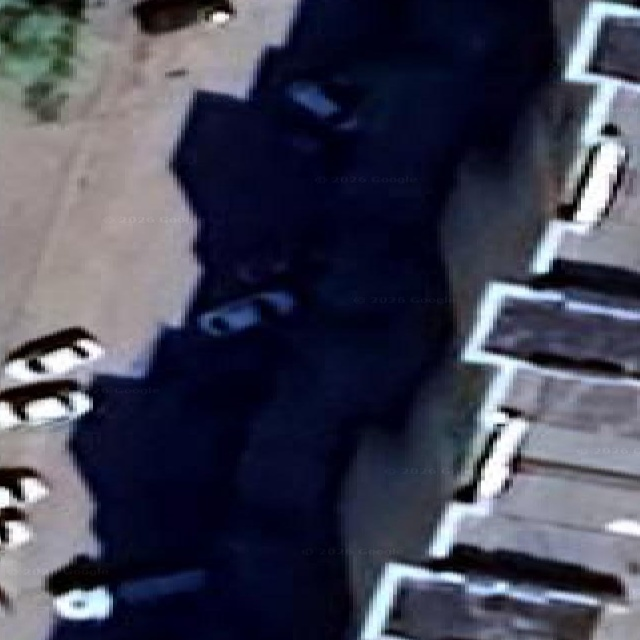car: (44, 555, 207, 620), (271, 75, 360, 173), (560, 124, 627, 228), (455, 411, 527, 503), (4, 327, 103, 380), (198, 289, 295, 336), (44, 555, 112, 620), (0, 380, 91, 428), (477, 415, 527, 499), (287, 77, 357, 131), (132, 0, 235, 33), (52, 586, 112, 620), (0, 467, 47, 507), (0, 507, 31, 548), (200, 0, 235, 26), (0, 587, 12, 612), (291, 112, 292, 115)
